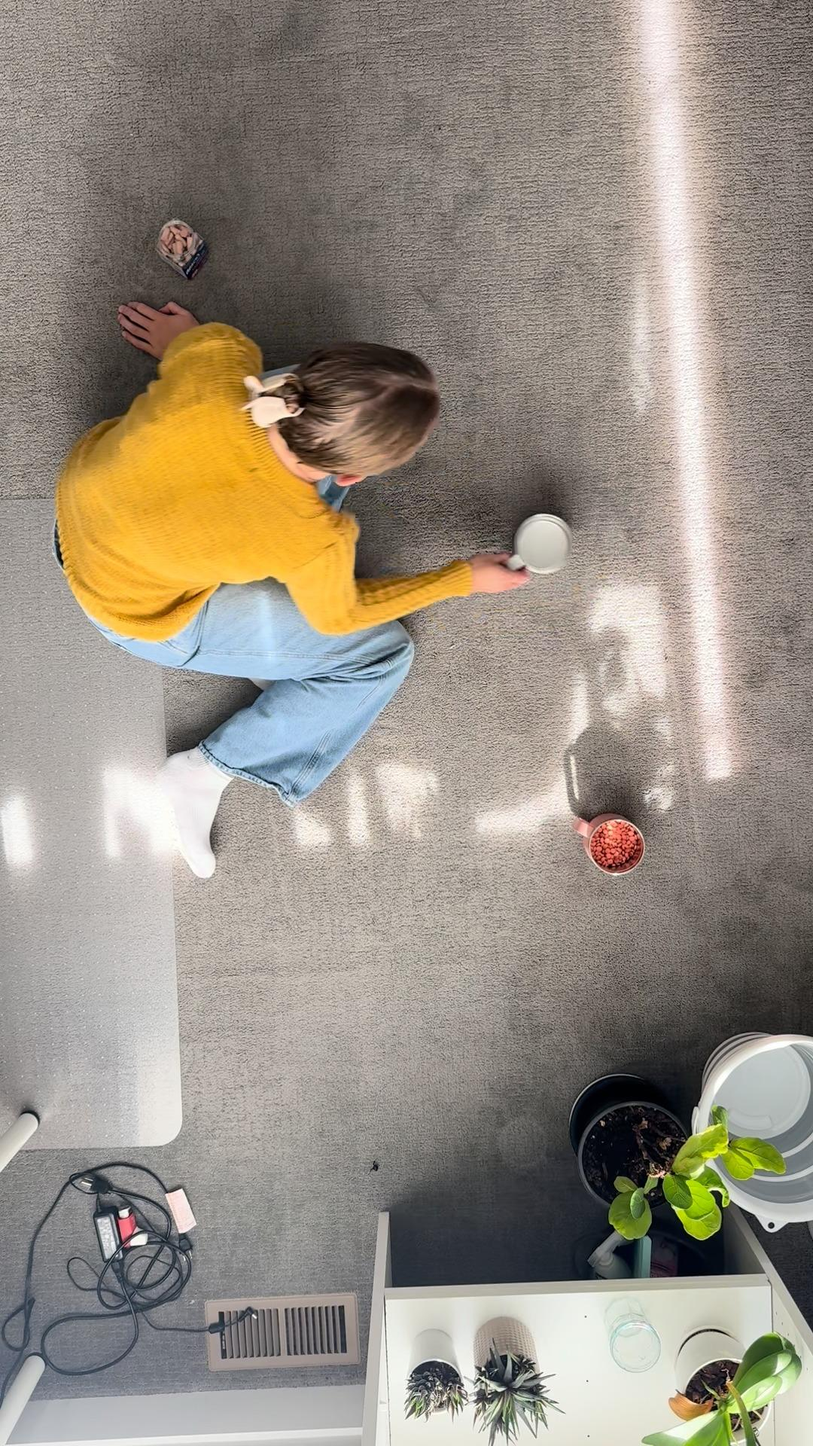IBC: (572, 803, 652, 883), (504, 505, 580, 586)
